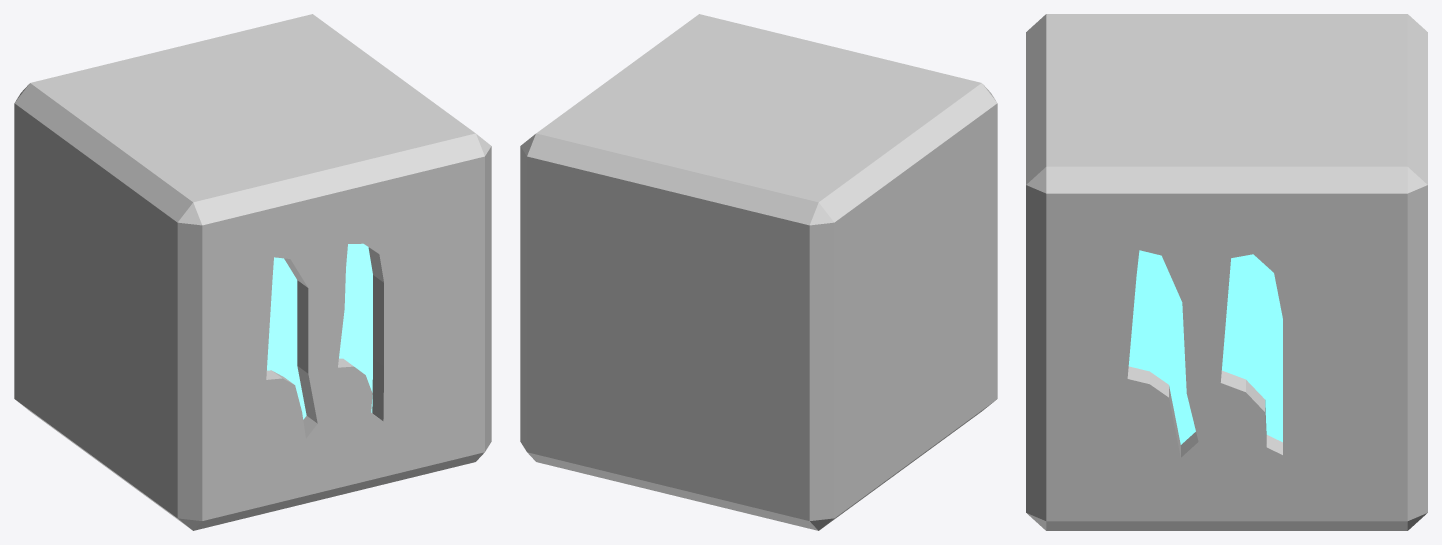
The model's file is Kupikilibacak.fbx.
The picture shows the model from 3 angles, left to right: view 1: azimuth 30°, elevation 25°; view 2: azimuth 150°, elevation 25°; view 3: azimuth 270°, elevation 25°; orthographic projection. The views are drawn at different scales.
Parts seen in each view (by area): view 1: Cube.009; view 2: Cube.009; view 3: Cube.009.
Part boxes in pixels (left/top/right/bottom): Cube.009: left=14, top=14, right=491, bottom=530; Cube.009: left=520, top=14, right=997, bottom=530; Cube.009: left=1026, top=14, right=1427, bottom=530.
Size of the model in its own units: 119 by 119 by 119.
